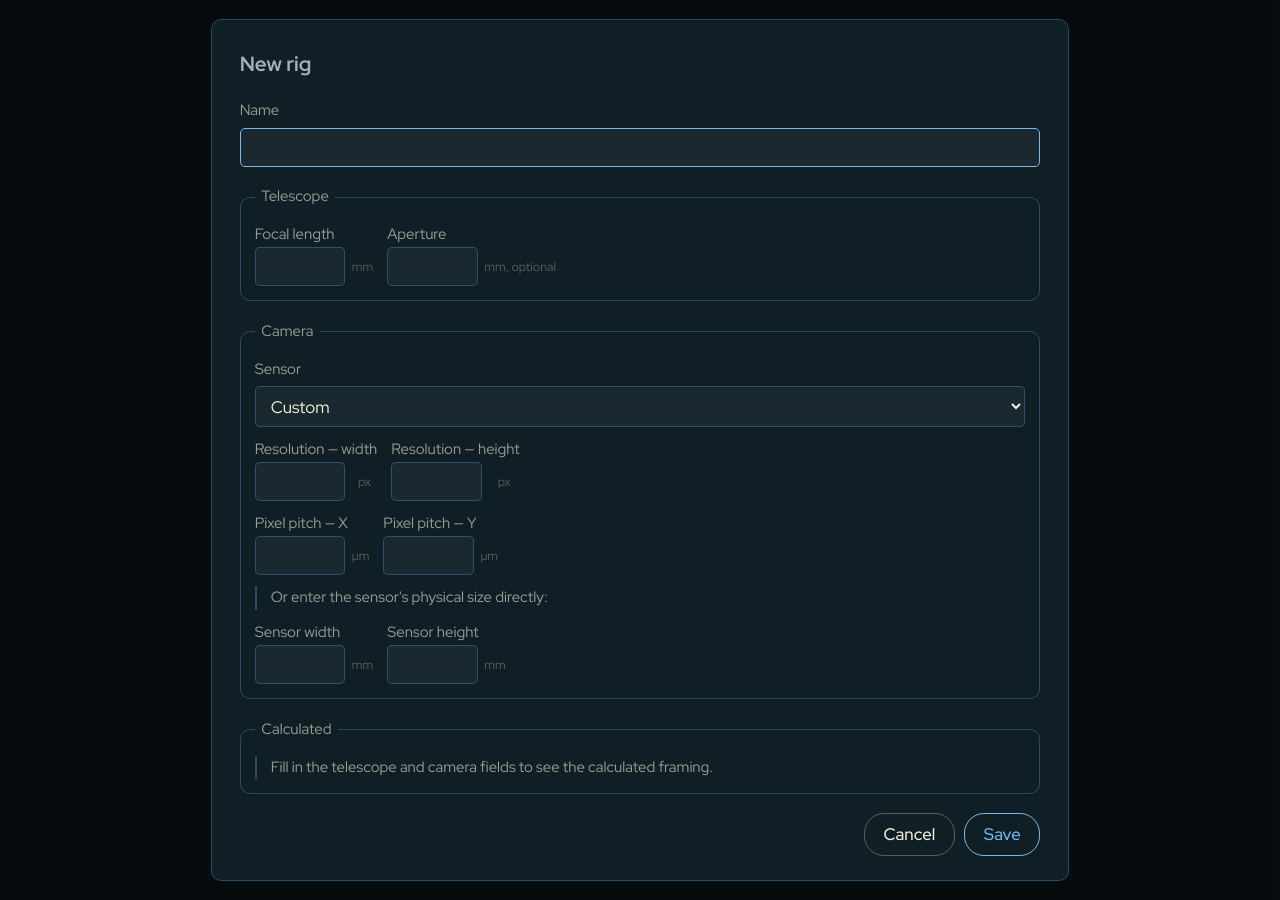
Scenario: sensor presets › picking a sensor fills every camera field
Select "Sony IMX533" in the dropdown labelled "Sensor" at (640, 406), box [255,386,1025,427]
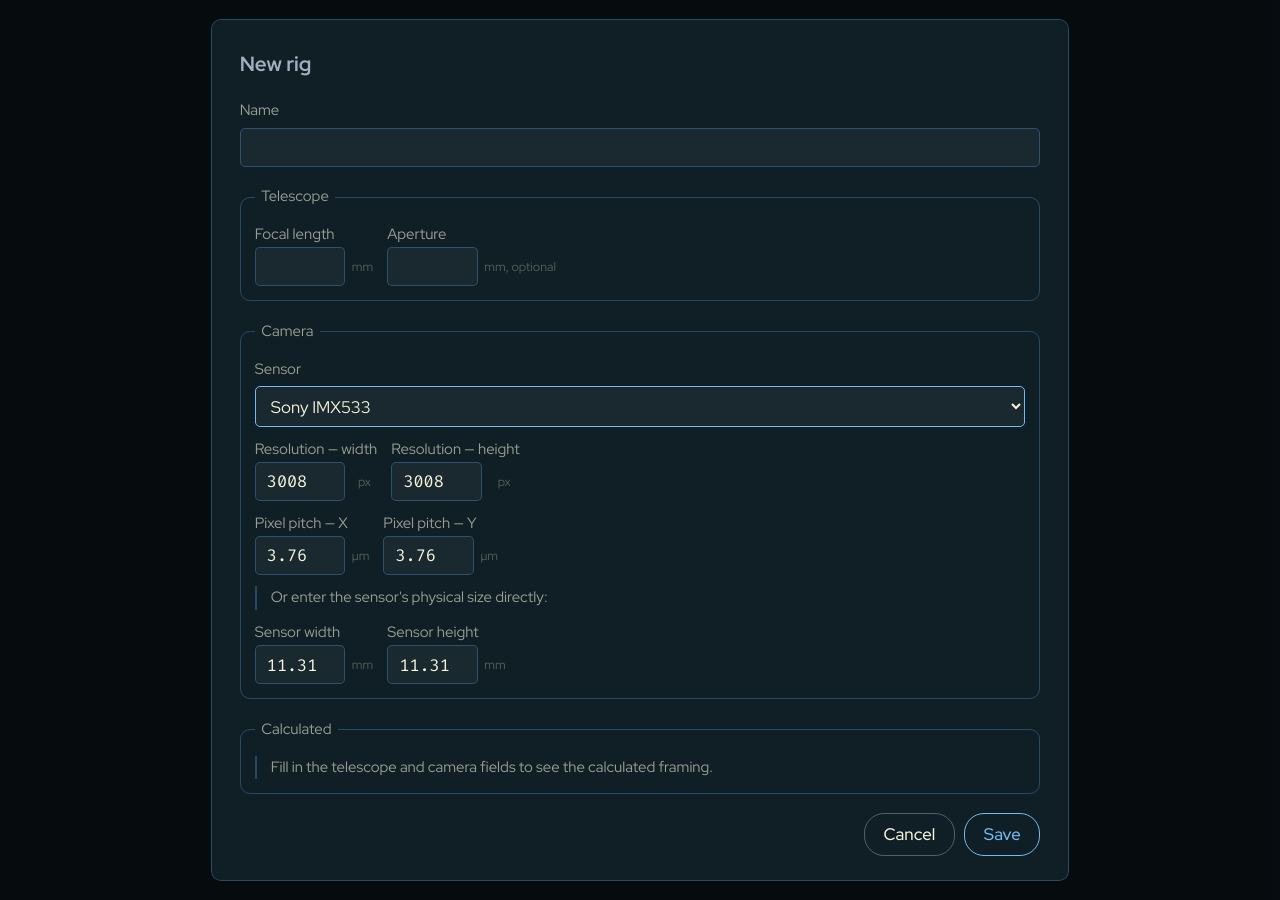
Now the number field labelled "Resolution — width px" holds "3008", box [255,462,345,501]
Now the number field labelled "Resolution — height px" holds "3008", box [391,462,482,501]
Now the number field labelled "Pixel pitch — X µm" holds "3.76", box [255,536,345,575]
